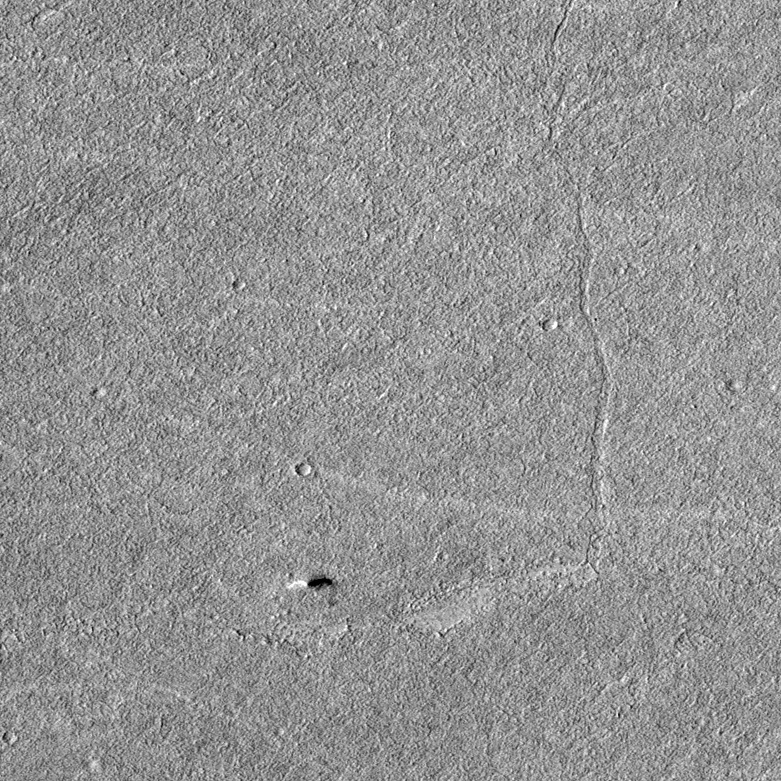dust_devil: (285, 576, 335, 592)
